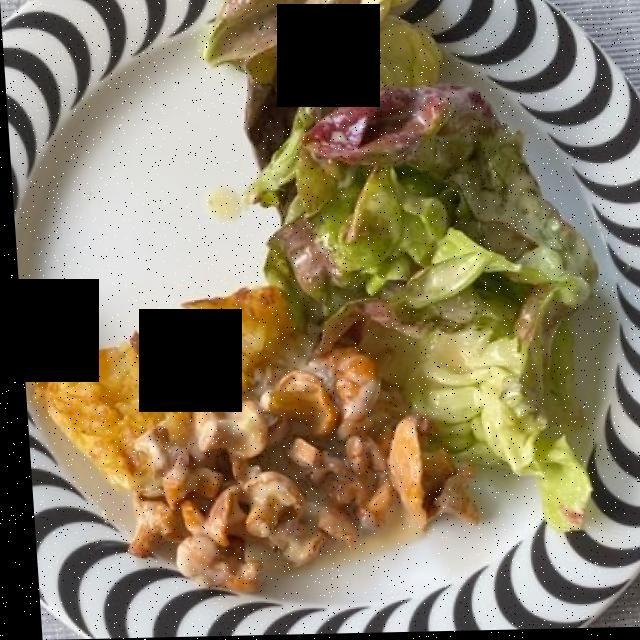rosti: (24, 298, 284, 479)
salad: (198, 0, 588, 536)
sauce: (304, 514, 402, 566)
